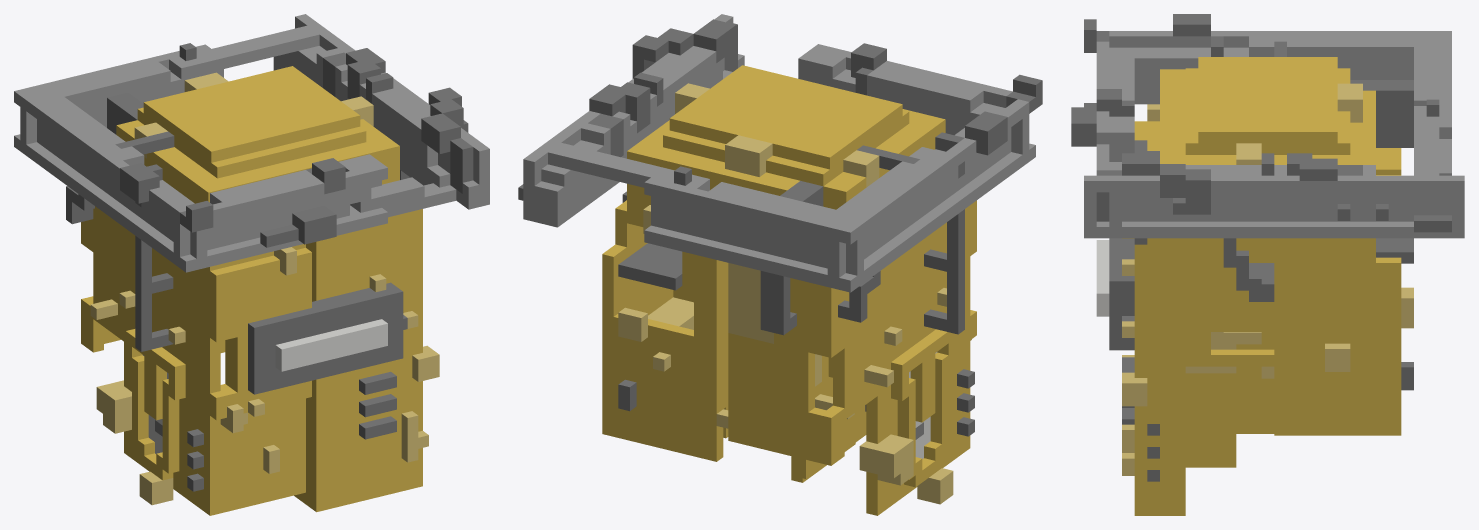
3 views of the same model, side by side, from view 1: azimuth 30°, elevation 25°; view 2: azimuth 150°, elevation 25°; view 3: azimuth 270°, elevation 25° (orthographic). The views are drawn at different scales.
Bounding box in the file's own units: 1.55 × 1.6 × 1.55.
